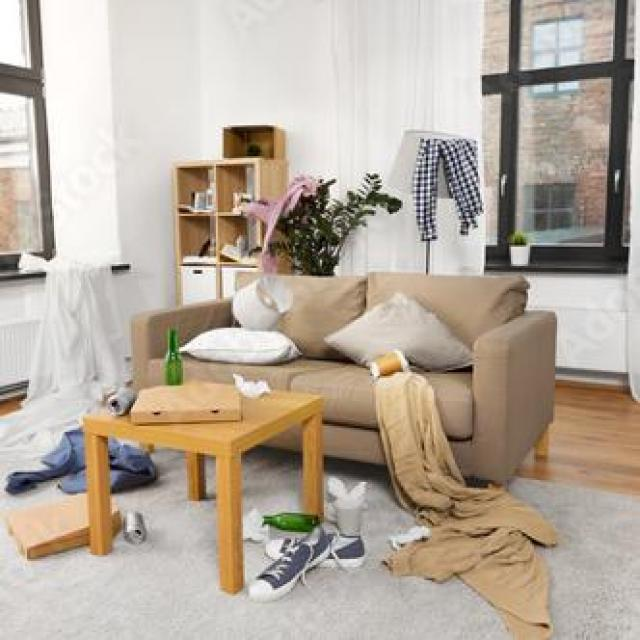couch: (129, 272, 557, 495)
